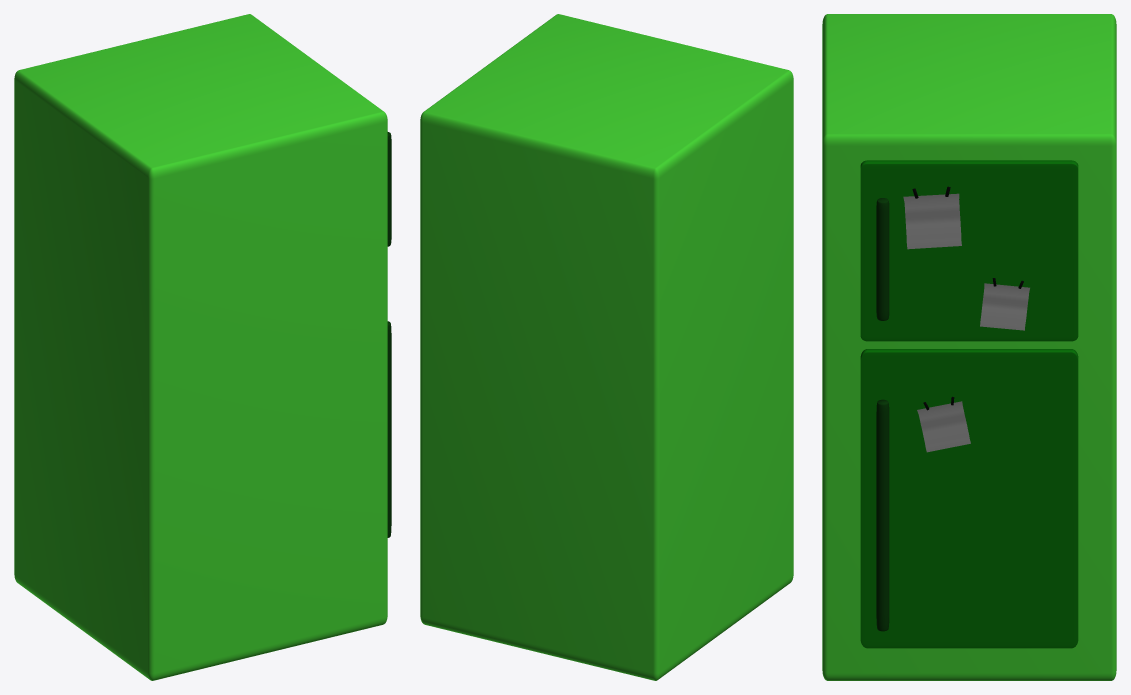
File: Fridge.obj
3 views of the same model, side by side, from view 1: azimuth 30°, elevation 25°; view 2: azimuth 150°, elevation 25°; view 3: azimuth 270°, elevation 25° (orthographic). The views are drawn at different scales.
Visible parts, largest first — view 1: Cube, Cylinder.004, Cylinder.001; view 2: Cube; view 3: Cube, Cube.002_Cube.003, Cube.001, Cylinder.004, Plane, Plane.002, Plane.001, Cylinder.001.
Part boxes in pixels (<box>): Cube: <box>14,14,387,680</box>; Cylinder.004: <box>387,321,391,537</box>; Cylinder.001: <box>387,132,391,246</box>; Cube: <box>420,14,793,680</box>; Cube: <box>822,14,1116,680</box>; Cube.002_Cube.003: <box>860,349,1078,648</box>; Cube.001: <box>860,160,1078,341</box>; Cylinder.004: <box>876,399,889,631</box>; Plane: <box>903,193,961,249</box>; Plane.002: <box>917,401,970,452</box>; Plane.001: <box>980,283,1029,330</box>; Cylinder.001: <box>876,198,889,320</box>.
Bounding box in the file's own units: 3.03 × 5.54 × 2.7.
